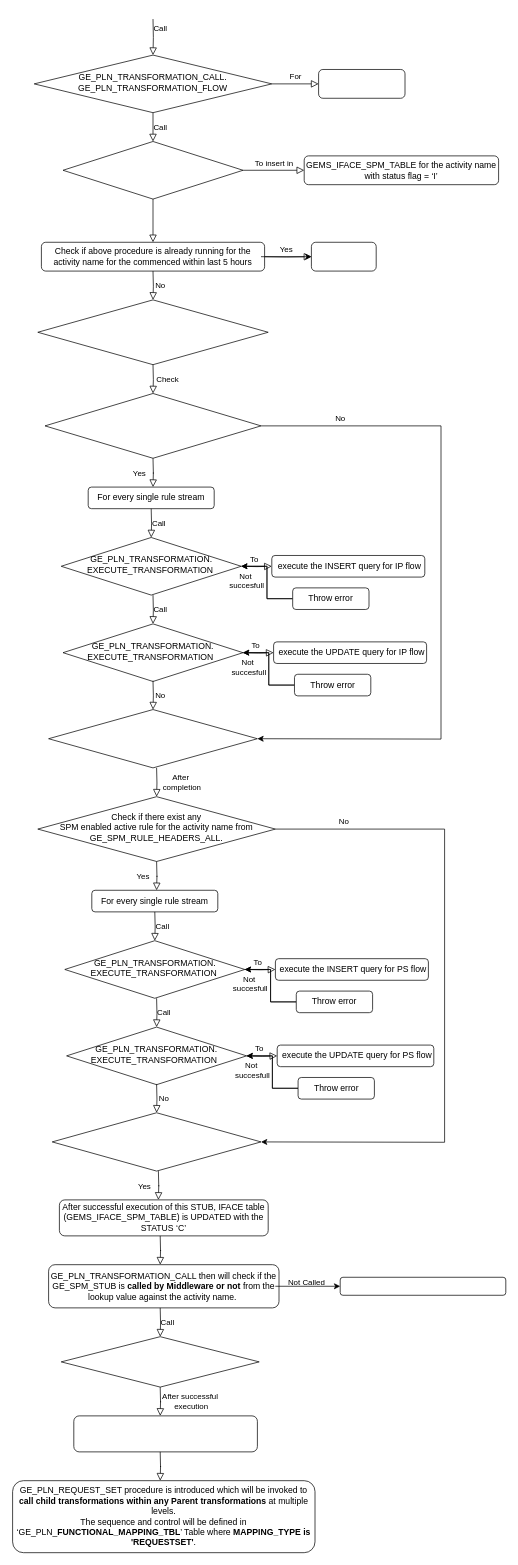
Some shapes in this 518 by 1565 pixel diagram are drawn without their labels. Each missing label, with the centre of its shape:
", Call GE_INBD_PRSD_STUB. GE_INBD_PRSD_FLOW to execute first STUB." goes at pixel 152 332.
"GE_IFACE_SPM_DETAILS. GE_IFACE_SPM_INSERT" goes at pixel 152 170.
"GE_PRSD_SPM_STUB. GE_PRSD_SPM_FLOW to execute the next STUB" goes at pixel 152 738.
"GE_SPM_STUB. GE_SPM_FLOW to execute the final STUB." goes at pixel 159 1361.
"GE_SPM_STUB_LOGIC. GE_SPM_FLOW to execute the next STUB" goes at pixel 156 1141.
"If exist any active rule for the activity name from GE_SPM_RULE_HEADERS_ALL" goes at pixel 152 425.
"IFACE table (GEMS_IFACE_SPM_TABLE) is UPDATED with the STATUS ‘C’" goes at pixel 165 1433.
"Particular Activity Name" goes at pixel 361 83.
"Procedure itself will call the below STUB" goes at pixel 422 1286.
"Procedure throws error" goes at pixel 343 256.
